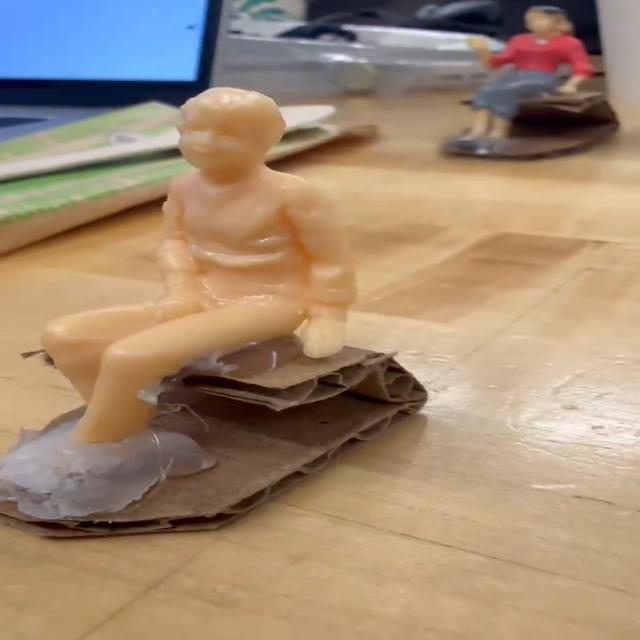Unauthorized: (0, 88, 444, 479)
